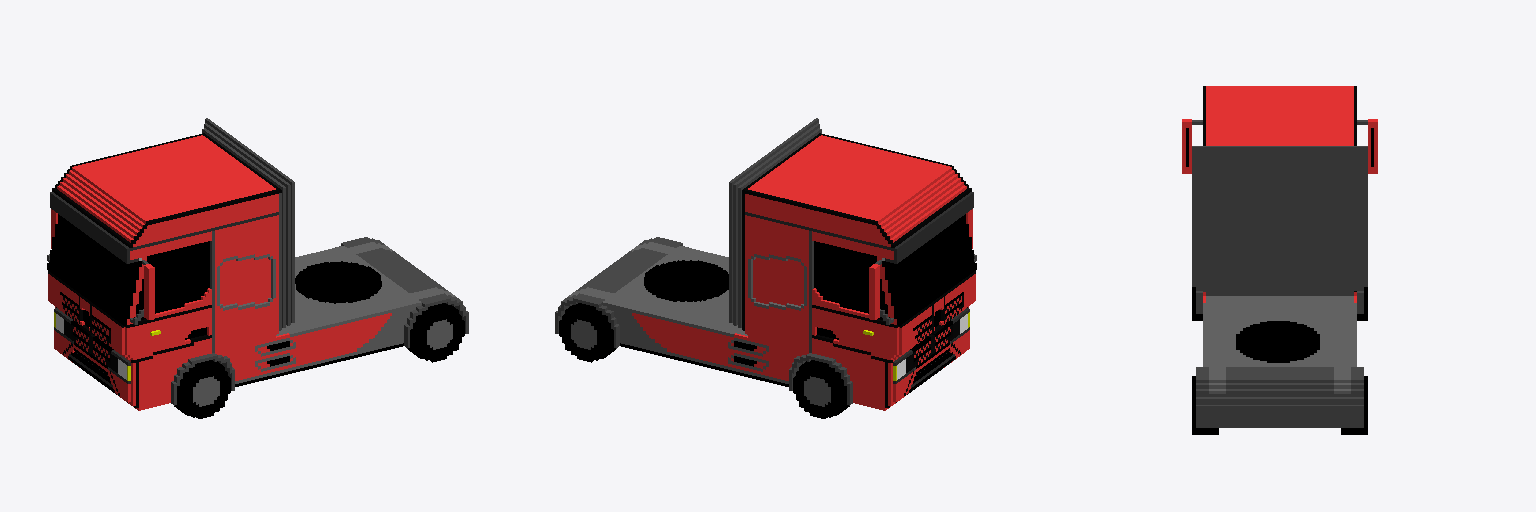
3 renders of one model, left to right at view 1: azimuth 30°, elevation 25°; view 2: azimuth 150°, elevation 25°; view 3: azimuth 270°, elevation 25°, orthographic.
Parts seen in each view (by area): view 1: object 1; view 2: object 1; view 3: object 1.
Part boxes in pixels (bbox=[...]): object 1: bbox=[47, 118, 468, 418]; object 1: bbox=[555, 118, 976, 418]; object 1: bbox=[1182, 86, 1377, 434].
Size of the model in its own units: 11.7 by 7 by 5.8.
1 materials, 1 textured.